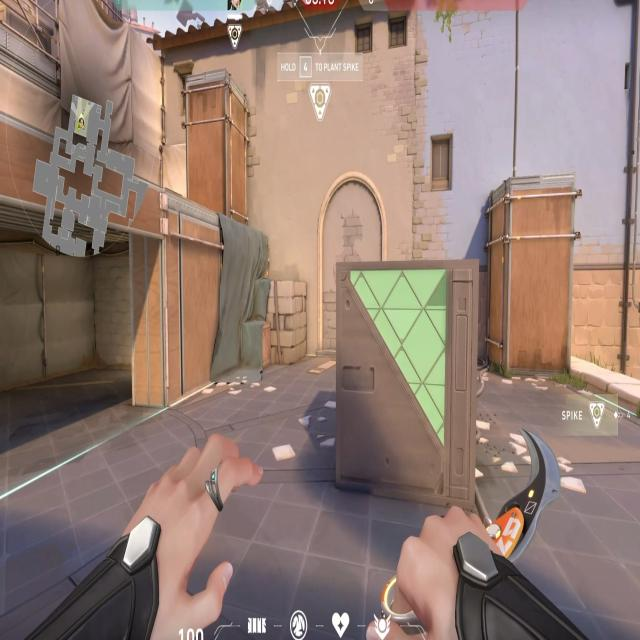A_Heaven_Box: (182, 69, 255, 226)
A_Hell: (0, 182, 174, 451)
